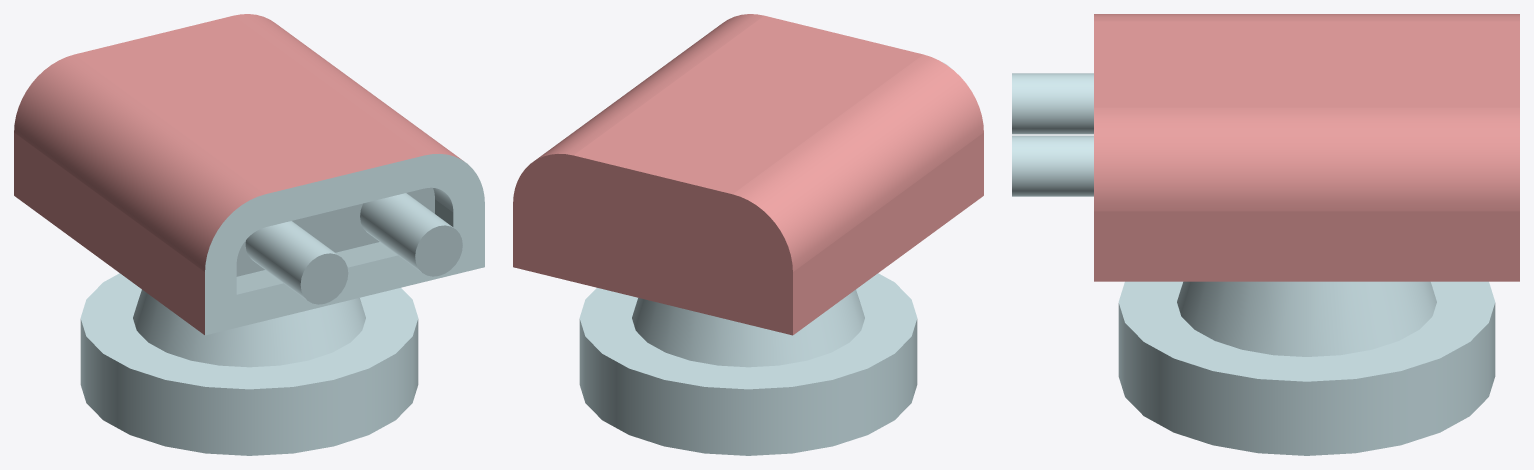
File: weapon_blaster.glb
3 views of the same model, side by side, from view 1: azimuth 30°, elevation 25°; view 2: azimuth 150°, elevation 25°; view 3: azimuth 270°, elevation 25° (orthographic). The views are drawn at different scales.
Parts seen in each view (by area): view 1: weapon_blaster; view 2: weapon_blaster; view 3: weapon_blaster.
Boxes of the visible parts, x1,y1,x2,y2 form: weapon_blaster: [14, 14, 484, 455]; weapon_blaster: [513, 14, 983, 455]; weapon_blaster: [1012, 14, 1519, 455].
Size of the model in its own units: 0.4598 by 0.42 by 0.62.
